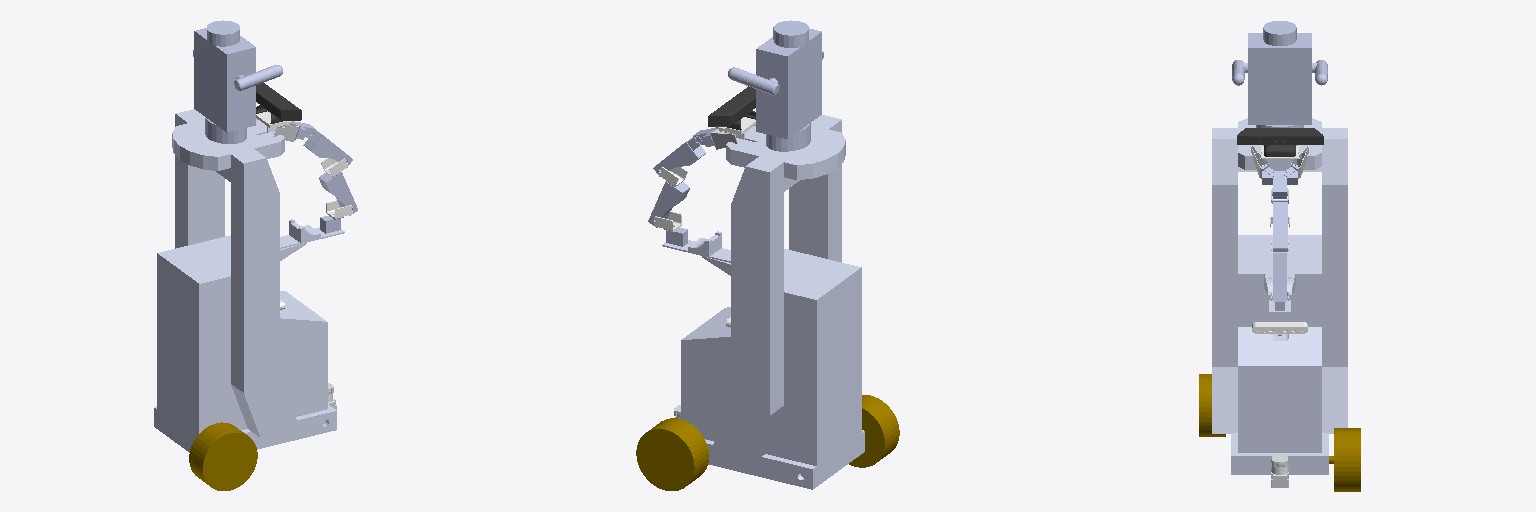
--- Render facts (derived) ---
The picture shows the robot from 3 angles, left to right: view 1: azimuth 30°, elevation 25°; view 2: azimuth 150°, elevation 25°; view 3: azimuth 270°, elevation 25°; orthographic projection.
Robot: hera_description — 20 links, 19 joints (8 revolute, 4 continuous, 7 fixed); root link base_link; default pose: every joint at zero.
Visible links, largest first — view 1: base_link, head_link, wheelBR_link, camera_link, link_2, link_4; view 2: base_link, head_link, wheelFL_link, wheelBR_link, camera_link, link_2, link_4; view 3: base_link, head_link, camera_link, wheelFL_link, link_6, wheelBR_link, link_4, link_2, xtion_depth_optical, base_scan_link.
Boxes of the visible links, box(x1,y1,x2,y2) form: base_link: box(154, 109, 344, 452); head_link: box(193, 20, 282, 143); wheelBR_link: box(189, 422, 257, 490); camera_link: box(256, 83, 301, 123); link_2: box(319, 172, 357, 215); link_4: box(303, 130, 352, 167); base_link: box(662, 115, 864, 489); head_link: box(728, 20, 823, 151); wheelFL_link: box(636, 418, 708, 490); wheelBR_link: box(849, 395, 899, 467); camera_link: box(708, 86, 755, 130); link_2: box(648, 182, 689, 227); link_4: box(653, 137, 705, 176); base_link: box(1212, 118, 1347, 487); head_link: box(1232, 21, 1327, 127); camera_link: box(1237, 128, 1323, 156); wheelFL_link: box(1329, 428, 1360, 491); link_6: box(1260, 164, 1299, 198); wheelBR_link: box(1199, 374, 1225, 436); link_4: box(1273, 202, 1287, 251); link_2: box(1273, 252, 1286, 301); xtion_depth_optical: box(1252, 322, 1307, 335); base_scan_link: box(1271, 455, 1288, 486).
Bounding box of the posed robot: 0.7116 × 0.5215 × 1.5 m (x, y, z).
Meshes: 19 distinct files referenced, 17 mesh visuals loaded (17 binary STL); not drawn: 2 (reference not matched to a file when rendering).

robot.urdf — hera_description:
<robot
  name="hera_description">
  <link
    name="base_link">
    <inertial>
      <origin
        xyz="-0.0378472205159159 -4.45763618397466E-08 0.342644249622605"
        rpy="0 0 0" />
      <mass
        value="99.5369630102893" />
      <inertia
        ixx="0.044064230209152"
        ixy="1.30625532944847E-06"
        ixz="0.00719294044752676"
        iyy="0.0704530976037132"
        iyz="-1.57888819011965E-06"
        izz="0.0263888679239557" />
    </inertial>
    <visual>
      <origin
        xyz="0 0 0"
        rpy="0 0 0" />
      <geometry>
        <mesh
          filename="package://hera_description/meshes/base_link.STL" />
      </geometry>
      <material
        name="">
        <color
          rgba="0.882352941176471 0.909803921568627 1 1" />
      </material>
    </visual>
    <collision>
      <origin
        xyz="0 0 0"
        rpy="0 0 0" />
      <geometry>
        <mesh
          filename="package://hera_description/meshes/base_link.STL" />
      </geometry>
    </collision>
  </link>
  <link
    name="wheelFL_link">
    <inertial>
      <origin
        xyz="-2.77555756156289E-17 -0.000127707075968042 0"
        rpy="0 0 0" />
      <mass
        value="24.2701476542873" />
      <inertia
        ixx="0"
        ixy="0"
        ixz="0"
        iyy="0"
        iyz="0"
        izz="0" />
    </inertial>
    <visual>
      <origin
        xyz="0 0 0"
        rpy="0 0 0" />
      <geometry>
        <mesh
          filename="package://hera_description/meshes/wheelFL_link.STL" />
      </geometry>
      <material
        name="">
        <color
          rgba="0.647058823529412 0.517647058823529 0 1" />
      </material>
    </visual>
    <collision>
      <origin
        xyz="0 0 0"
        rpy="0 0 0" />
      <geometry>
        <mesh
          filename="package://hera_description/meshes/wheelFL_link.STL" />
      </geometry>
    </collision>
  </link>
  <joint
    name="wheelFL_joint"
    type="continuous">
    <origin
      xyz="0.20648 0.21675 0"
      rpy="0 0 0" />
    <parent
      link="base_link" />
    <child
      link="wheelFL_link" />
    <axis
      xyz="0 1 0" />
    <limit
      effort="3.25"
      velocity="5" />
  </joint>
  <link
    name="wheelFR_link">
    <inertial>
      <origin
        xyz="0 0.000127707075968042 0"
        rpy="0 0 0" />
      <mass
        value="24.2701476542873" />
      <inertia
        ixx="0"
        ixy="0"
        ixz="0"
        iyy="0"
        iyz="0"
        izz="0" />
    </inertial>
    <visual>
      <origin
        xyz="0 0 0"
        rpy="0 0 0" />
      <geometry>
        <mesh
          filename="package://hera_description/meshes/wheelFR_link.STL" />
      </geometry>
      <material
        name="">
        <color
          rgba="0.647058823529412 0.517647058823529 0 1" />
      </material>
    </visual>
    <collision>
      <origin
        xyz="0 0 0"
        rpy="0 0 0" />
      <geometry>
        <mesh
          filename="package://hera_description/meshes/wheelFR_link.STL" />
      </geometry>
    </collision>
  </link>
  <joint
    name="wheelFR_joint"
    type="continuous">
    <origin
      xyz="0.20648 -0.21675 0"
      rpy="0 0 0" />
    <parent
      link="base_link" />
    <child
      link="wheelFR_link" />
    <axis
      xyz="0 1 0" />
    <limit
      effort="3.25"
      velocity="5" />
  </joint>
  <link
    name="wheelBL_link">
    <inertial>
      <origin
        xyz="0 -0.000127707075968042 0"
        rpy="0 0 0" />
      <mass
        value="24.2701476542873" />
      <inertia
        ixx="0"
        ixy="0"
        ixz="0"
        iyy="0"
        iyz="0"
        izz="0" />
    </inertial>
    <visual>
      <origin
        xyz="0 0 0"
        rpy="0 0 0" />
      <geometry>
        <mesh
          filename="package://hera_description/meshes/wheelBL_link.STL" />
      </geometry>
      <material
        name="">
        <color
          rgba="0.647058823529412 0.517647058823529 0 1" />
      </material>
    </visual>
    <collision>
      <origin
        xyz="0 0 0"
        rpy="0 0 0" />
      <geometry>
        <mesh
          filename="package://hera_description/meshes/wheelBL_link.STL" />
      </geometry>
    </collision>
  </link>
  <joint
    name="wheelBL_joint"
    type="continuous">
    <origin
      xyz="-0.20623 0.21675 0"
      rpy="0 0 0" />
    <parent
      link="base_link" />
    <child
      link="wheelBL_link" />
    <axis
      xyz="0 1 0" />
    <limit
      effort="3.25"
      velocity="5" />
  </joint>
  <link
    name="wheelBR_link">
    <inertial>
      <origin
        xyz="0 0.000127707075968042 6.93889390390723E-18"
        rpy="0 0 0" />
      <mass
        value="24.2701476542873" />
      <inertia
        ixx="0"
        ixy="0"
        ixz="0"
        iyy="0"
        iyz="0"
        izz="0" />
    </inertial>
    <visual>
      <origin
        xyz="0 0 0"
        rpy="0 0 0" />
      <geometry>
        <mesh
          filename="package://hera_description/meshes/wheelBR_link.STL" />
      </geometry>
      <material
        name="">
        <color
          rgba="0.647058823529412 0.517647058823529 0 1" />
      </material>
    </visual>
    <collision>
      <origin
        xyz="0 0 0"
        rpy="0 0 0" />
      <geometry>
        <mesh
          filename="package://hera_description/meshes/wheelBR_link.STL" />
      </geometry>
    </collision>
  </link>
  <joint
    name="wheelBR_joint"
    type="continuous">
    <origin
      xyz="-0.20623 -0.21675 0"
      rpy="0 0 0" />
    <parent
      link="base_link" />
    <child
      link="wheelBR_link" />
    <axis
      xyz="0 1 0" />
    <limit
      effort="3.25"
      velocity="5" />
  </joint>
  <link
    name="base_scan_link">
    <inertial>
      <origin
        xyz="-0.00172501697333638 -4.93002948039427E-13 -0.0147337457873118"
        rpy="0 0 0" />
      <mass
        value="0.669181583389372" />
      <inertia
        ixx="0.000378278931511382"
        ixy="-2.04265599379836E-17"
        ixz="1.4632315095333E-06"
        iyy="0.000378287917620533"
        iyz="9.23792313122111E-15"
        izz="8.98610915070338E-09" />
    </inertial>
    <visual>
      <origin
        xyz="0 0 0"
        rpy="0 0 0" />
      <geometry>
        <mesh
          filename="package://hera_description/meshes/base_scan_link.STL" />
      </geometry>
      <material
        name="">
        <color
          rgba="0.898039215686275 0.917647058823529 0.929411764705882 1" />
      </material>
    </visual>
    <collision>
      <origin
        xyz="0 0 0"
        rpy="0 0 0" />
      <geometry>
        <mesh
          filename="package://hera_description/meshes/base_scan_link.STL" />
      </geometry>
    </collision>
  </link>
  <joint
    name="base_scan_joint"
    type="fixed">
    <origin
      xyz="0.29379 0 0.013419"
      rpy="0 0 0" />
    <parent
      link="base_link" />
    <child
      link="base_scan_link" />
    <axis
      xyz="0 0 0" />
  </joint>
  <link
    name="xtion_link">
    <inertial>
      <origin
        xyz="-0.0214204948659581 -4.24610953899513E-10 -0.000813578798952275"
        rpy="0 0 0" />
      <mass
        value="0.012280323128001" />
      <inertia
        ixx="0"
        ixy="0"
        ixz="0"
        iyy="0"
        iyz="0"
        izz="0" />
    </inertial>
    <visual>
      <origin
        xyz="0 0 0"
        rpy="0 0 0" />
      <geometry>
        <mesh
          filename="package://hera_description/meshes/xtion_link.STL" />
      </geometry>
      <material
        name="">
        <color
          rgba="1 1 1 0.32" />
      </material>
    </visual>
    <collision>
      <origin
        xyz="0 0 0"
        rpy="0 0 0" />
      <geometry>
        <mesh
          filename="package://hera_description/meshes/xtion_link.STL" />
      </geometry>
    </collision>
  </link>
  <joint
    name="xtion_joint"
    type="fixed">
    <origin
      xyz="0.0775 0 0.3873"
      rpy="0 0 0" />
    <parent
      link="base_link" />
    <child
      link="xtion_link" />
    <axis
      xyz="0 1 0" />
    <limit
      effort="0"
      velocity="0" />
  </joint>
  <link
    name="xtion_depth_optical">
    <inertial>
      <origin
        xyz="-0.0167798361475048 -0.0447871333667723 -0.000201032384153421"
        rpy="0 0 0" />
      <mass
        value="0.160828442414892" />
      <inertia
        ixx="0"
        ixy="0"
        ixz="0"
        iyy="0"
        iyz="0"
        izz="0" />
    </inertial>
    <visual>
      <origin
        xyz="0 0 0"
        rpy="0 0 0" />
      <geometry>
        <mesh
          filename="package://hera_description/meshes/xtion_depth_optical.STL" />
      </geometry>
      <material
        name="">
        <color
          rgba="1 1 1 0.32" />
      </material>
    </visual>
    <collision>
      <origin
        xyz="0 0 0"
        rpy="0 0 0" />
      <geometry>
        <mesh
          filename="package://hera_description/meshes/xtion_depth_optical.STL" />
      </geometry>
    </collision>
  </link>
  <joint
    name="xtion_depth_optical_joint"
    type="fixed">
    <origin
      xyz="0.016 0.0445000000000008 0.0214843769443395"
      rpy="0 0 0" />
    <parent
      link="xtion_link" />
    <child
      link="xtion_depth_optical" />
    <axis
      xyz="0 0 0" />
  </joint>
  <link
    name="manip_link">
    <inertial>
      <origin
        xyz="0.00670680348818703 3.974947148317E-09 0.0318456490768535"
        rpy="0 0 0" />
      <mass
        value="0.117793912097688" />
      <inertia
        ixx="3.51059975475259E-05"
        ixy="-8.98830903989E-12"
        ixz="-2.22633738741355E-05"
        iyy="4.92248903546142E-05"
        iyz="-1.41732136779733E-11"
        izz="1.41188928070997E-05" />
    </inertial>
    <visual>
      <origin
        xyz="0 0 0"
        rpy="0 0 0" />
      <geometry>
        <mesh
          filename="package://hera_description/meshes/manip_link.STL" />
      </geometry>
      <material
        name="">
        <color
          rgba="0.792156862745098 0.819607843137255 0.933333333333333 1" />
      </material>
    </visual>
    <collision>
      <origin
        xyz="0 0 0"
        rpy="0 0 0" />
      <geometry>
        <mesh
          filename="package://hera_description/meshes/manip_link.STL" />
      </geometry>
    </collision>
  </link>
  <joint
    name="manip_joint"
    type="fixed">
    <origin
      xyz="0.316 0 0.5923"
      rpy="0 0 0" />
    <parent
      link="base_link" />
    <child
      link="manip_link" />
    <axis
      xyz="0 0 0" />
  </joint>
  <link
    name="link_1">
    <inertial>
      <origin
        xyz="0.0104033798877035 1.61957894568264E-08 0.0156157675149726"
        rpy="0 0 0" />
      <mass
        value="0.0289102663054045" />
      <inertia
        ixx="0"
        ixy="0"
        ixz="0"
        iyy="0"
        iyz="0"
        izz="0" />
    </inertial>
    <visual>
      <origin
        xyz="0 0 0"
        rpy="0 0 0" />
      <geometry>
        <mesh
          filename="package://hera_description/meshes/link_1.STL" />
      </geometry>
      <material
        name="">
        <color
          rgba="0.996078431372549 0.996078431372549 1 1" />
      </material>
    </visual>
    <collision>
      <origin
        xyz="0 0 0"
        rpy="0 0 0" />
      <geometry>
        <mesh
          filename="package://hera_description/meshes/link_1.STL" />
      </geometry>
    </collision>
  </link>
  <joint
    name="joint_1"
    type="revolute">
    <origin
      xyz="0.0155 0 0.0465"
      rpy="0 0 0" />
    <parent
      link="manip_link" />
    <child
      link="link_1" />
    <axis
      xyz="0 0 1" />
    <limit
      lower="-2.24"
      upper="2.24"
      effort="10.6"
      velocity="5" />
  </joint>
  <link
    name="link_2">
    <inertial>
      <origin
        xyz="0.0741364452821117 1.30229255655455E-17 0.00628031610796598"
        rpy="0 0 0" />
      <mass
        value="0.375828736783438" />
      <inertia
        ixx="0"
        ixy="0"
        ixz="0"
        iyy="0"
        iyz="0"
        izz="0" />
    </inertial>
    <visual>
      <origin
        xyz="0 0 0"
        rpy="0 0 0" />
      <geometry>
        <mesh
          filename="package://hera_description/meshes/link_2.STL" />
      </geometry>
      <material
        name="">
        <color
          rgba="0.792156862745098 0.819607843137255 0.933333333333333 1" />
      </material>
    </visual>
    <collision>
      <origin
        xyz="0 0 0"
        rpy="0 0 0" />
      <geometry>
        <mesh
          filename="package://hera_description/meshes/link_2.STL" />
      </geometry>
    </collision>
  </link>
  <joint
    name="joint_2"
    type="revolute">
    <origin
      xyz="0.048 0 0.0215"
      rpy="3.1416 -1.1781 -3.1416" />
    <parent
      link="link_1" />
    <child
      link="link_2" />
    <axis
      xyz="0 -1 0" />
    <limit
      lower="-3.14"
      upper="3.14"
      effort="10.6"
      velocity="5" />
  </joint>
  <link
    name="link_3">
    <inertial>
      <origin
        xyz="0.0156157675773119 1.6417634019545E-08 -0.0104033799815866"
        rpy="0 0 0" />
      <mass
        value="0.0289102659811359" />
      <inertia
        ixx="0"
        ixy="0"
        ixz="0"
        iyy="0"
        iyz="0"
        izz="0" />
    </inertial>
    <visual>
      <origin
        xyz="0 0 0"
        rpy="0 0 0" />
      <geometry>
        <mesh
          filename="package://hera_description/meshes/link_3.STL" />
      </geometry>
      <material
        name="">
        <color
          rgba="0.996078431372549 0.996078431372549 1 1" />
      </material>
    </visual>
    <collision>
      <origin
        xyz="0 0 0"
        rpy="0 0 0" />
      <geometry>
        <mesh
          filename="package://hera_description/meshes/link_3.STL" />
      </geometry>
    </collision>
  </link>
  <joint
    name="joint_3"
    type="revolute">
    <origin
      xyz="0.14525 0 0"
      rpy="0 -5.5511E-17 -4.9304E-32" />
    <parent
      link="link_2" />
    <child
      link="link_3" />
    <axis
      xyz="1 0 0" />
    <limit
      lower="-2.24"
      upper="2.24"
      effort="10.6"
      velocity="5" />
  </joint>
  <link
    name="link_4">
    <inertial>
      <origin
        xyz="0.0741364452820953 1.48160807624323E-13 0.00628031610795943"
        rpy="0 0 0" />
      <mass
        value="0.375828736783437" />
      <inertia
        ixx="0"
        ixy="0"
        ixz="0"
        iyy="0"
        iyz="0"
        izz="0" />
    </inertial>
    <visual>
      <origin
        xyz="0 0 0"
        rpy="0 0 0" />
      <geometry>
        <mesh
          filename="package://hera_description/meshes/link_4.STL" />
      </geometry>
      <material
        name="">
        <color
          rgba="0.792156862745098 0.819607843137255 0.933333333333333 1" />
      </material>
    </visual>
    <collision>
      <origin
        xyz="0 0 0"
        rpy="0 0 0" />
      <geometry>
        <mesh
          filename="package://hera_description/meshes/link_4.STL" />
      </geometry>
    </collision>
  </link>
  <joint
    name="joint_4"
    type="revolute">
    <origin
      xyz="0.0215 0.0001535 -0.048"
      rpy="8.3578E-18 -0.3927 -2.9674E-16" />
    <parent
      link="link_3" />
    <child
      link="link_4" />
    <axis
      xyz="0 -1 0" />
    <limit
      lower="-5.14"
      upper="1.14"
      effort="10.6"
      velocity="5" />
  </joint>
  <link
    name="link_5">
    <inertial>
      <origin
        xyz="0.010087101628525 1.48136575705768E-13 -6.77236045021345E-15"
        rpy="0 0 0" />
      <mass
        value="0.0141181825481306" />
      <inertia
        ixx="0"
        ixy="0"
        ixz="0"
        iyy="0"
        iyz="0"
        izz="0" />
    </inertial>
    <visual>
      <origin
        xyz="0 0 0"
        rpy="0 0 0" />
      <geometry>
        <mesh
          filename="package://hera_description/meshes/link_5.STL" />
      </geometry>
      <material
        name="">
        <color
          rgba="0.792156862745098 0.819607843137255 0.933333333333333 1" />
      </material>
    </visual>
    <collision>
      <origin
        xyz="0 0 0"
        rpy="0 0 0" />
      <geometry>
        <mesh
          filename="package://hera_description/meshes/link_5.STL" />
      </geometry>
    </collision>
  </link>
  <joint
    name="joint_5"
    type="revolute">
    <origin
      xyz="0.14525 0 0"
      rpy="-1.4604E-16 1.4438E-31 -8.5251E-17" />
    <parent
      link="link_4" />
    <child
      link="link_5" />
    <axis
      xyz="1 0 0" />
    <limit
      lower="-2.24"
      upper="2.24"
      effort="10.6"
      velocity="5" />
  </joint>
  <link
    name="link_6">
    <inertial>
      <origin
        xyz="0.0426969278796748 1.47804755630879E-13 0.0176856465994266"
        rpy="0 0 0" />
      <mass
        value="0.23859359410415" />
      <inertia
        ixx="8.93099227661008E-05"
        ixy="-2.04409858272724E-17"
        ixz="-5.33316339200297E-05"
        iyy="0.000150844639986451"
        iyz="-8.64121315512775E-18"
        izz="0.000195973190606168" />
    </inertial>
    <visual>
      <origin
        xyz="0 0 0"
        rpy="0 0 0" />
      <geometry>
        <mesh
          filename="package://hera_description/meshes/link_6.STL" />
      </geometry>
      <material
        name="">
        <color
          rgba="0.792156862745098 0.819607843137255 0.933333333333333 1" />
      </material>
    </visual>
    <collision>
      <origin
        xyz="0 0 0"
        rpy="0 0 0" />
      <geometry>
        <mesh
          filename="package://hera_description/meshes/link_6.STL" />
      </geometry>
    </collision>
  </link>
  <joint
    name="joint_6"
    type="revolute">
    <origin
      xyz="0.0375 0 0"
      rpy="0 2.6042E-31 0" />
    <parent
      link="link_5" />
    <child
      link="link_6" />
    <axis
      xyz="0 -1 0" />
    <limit
      lower="-3.14"
      upper="3.14"
      effort="10.6"
      velocity="5" />
  </joint>
  <link
    name="link_7">
    <inertial>
      <origin
        xyz="0.000799658923762936 -5.81362093582914E-08 -2.0959335822468E-08"
        rpy="0 0 0" />
      <mass
        value="0.107040413919575" />
      <inertia
        ixx="0.000469215991711516"
        ixy="4.61057822637853E-11"
        ixz="5.0144351564635E-19"
        iyy="4.58551606653143E-18"
        iyz="-5.08471341484018E-12"
        izz="0.000469215991711521" />
    </inertial>
    <visual>
      <origin
        xyz="0 0 0"
        rpy="0 0 0" />
      <geometry>
        <mesh
          filename="package://hera_description/meshes/link_7.STL" />
      </geometry>
      <material
        name="">
        <color
          rgba="0.898039215686275 0.917647058823529 0.929411764705882 1" />
      </material>
    </visual>
    <collision>
      <origin
        xyz="0 0 0"
        rpy="0 0 0" />
      <geometry>
        <mesh
          filename="package://hera_description/meshes/link_7.STL" />
      </geometry>
    </collision>
  </link>
  <joint
    name="joint_7"
    type="fixed">
    <origin
      xyz="0.11762 0 0.04872"
      rpy="2.9899E-16 -0.3927 -1.9936E-16" />
    <parent
      link="link_6" />
    <child
      link="link_7" />
    <axis
      xyz="0 0 0" />
    <limit
      effort="10.6"
      velocity="0" />
  </joint>
  <link
    name="link_8" />
  <joint
    name="joint_8"
    type="fixed">
    <origin
      xyz="0.062599 0 0"
      rpy="0 3.0458E-31 0" />
    <parent
      link="link_7" />
    <child
      link="link_8" />
    <axis
      xyz="0 0 0" />
    <limit
      effort="10.6"
      velocity="0" />
  </joint>
  <link
    name="kinect_link">
    <inertial>
      <origin
        xyz="0.0174731660530447 0.000165436078301785 0.0325759125542562"
        rpy="0 0 0" />
      <mass
        value="0.0956443898933828" />
      <inertia
        ixx="0"
        ixy="0"
        ixz="0"
        iyy="0"
        iyz="0"
        izz="0" />
    </inertial>
    <visual>
      <origin
        xyz="0 0 0"
        rpy="0 0 0" />
      <geometry>
        <mesh
          filename="package://hera_description/meshes/kinect_link.STL" />
      </geometry>
      <material
        name="">
        <color
          rgba="1 1 1 1" />
      </material>
    </visual>
    <collision>
      <origin
        xyz="0 0 0"
        rpy="0 0 0" />
      <geometry>
        <mesh
          filename="package://hera_description/meshes/kinect_link.STL" />
      </geometry>
    </collision>
  </link>
  <joint
    name="kinect_joint"
    type="revolute">
    <origin
      xyz="0.077635 0 0.99883"
      rpy="6.0338E-16 0 0" />
    <parent
      link="base_link" />
    <child
      link="kinect_link" />
    <axis
      xyz="0 1 0" />
    <limit
      lower="0"
      upper="1.57"
      effort="3"
      velocity="3" />
  </joint>
  <link
    name="camera_link">
    <inertial>
      <origin
        xyz="-0.0249439013422586 0.0101695683720893 -0.00338860098947635"
        rpy="0 0 0" />
      <mass
        value="0.601627894799159" />
      <inertia
        ixx="5.990327152102E-05"
        ixy="1.49751784865378E-07"
        ixz="1.87108228809937E-05"
        iyy="6.57441457584246E-05"
        iyz="-4.79404209175574E-07"
        izz="5.84854804592201E-06" />
    </inertial>
    <visual>
      <origin
        xyz="0 0 0"
        rpy="0 0 0" />
      <geometry>
        <mesh
          filename="package://hera_description/meshes/camera_link.STL" />
      </geometry>
      <material
        name="">
        <color
          rgba="0.298039215686275 0.298039215686275 0.298039215686275 1" />
      </material>
    </visual>
    <collision>
      <origin
        xyz="0 0 0"
        rpy="0 0 0" />
      <geometry>
        <mesh
          filename="package://hera_description/meshes/camera_link.STL" />
      </geometry>
    </collision>
  </link>
  <joint
    name="camera_joint"
    type="fixed">
    <origin
      xyz="0.0489731680776693 -0.00991907062292097 0.0979999999999999"
      rpy="-6.03382078600628E-16 1.07182188209377E-30 1.77635683940025E-15" />
    <parent
      link="kinect_link" />
    <child
      link="camera_link" />
    <axis
      xyz="0 0 0" />
  </joint>
  <link
    name="head_link">
    <inertial>
      <origin
        xyz="-0.013849039370921 -6.03535467358075E-09 0.189580167582216"
        rpy="0 0 0" />
      <mass
        value="8.0744855416889" />
      <inertia
        ixx="0"
        ixy="0"
        ixz="0"
        iyy="0"
        iyz="0"
        izz="0" />
    </inertial>
    <visual>
      <origin
        xyz="0 0 0"
        rpy="0 0 0" />
      <geometry>
        <mesh
          filename="package://hera_description/meshes/head_link.STL" />
      </geometry>
      <material
        name="">
        <color
          rgba="0.792156862745098 0.819607843137255 0.933333333333333 1" />
      </material>
    </visual>
    <collision>
      <origin
        xyz="0 0 0"
        rpy="0 0 0" />
      <geometry>
        <mesh
          filename="package://hera_description/meshes/head_link.STL" />
      </geometry>
    </collision>
  </link>
  <joint
    name="head_joint"
    type="revolute">
    <origin
      xyz="-0.0575 0 1.0193"
      rpy="0 0 1.2616E-16" />
    <parent
      link="base_link" />
    <child
      link="head_link" />
    <axis
      xyz="0 0 1" />
    <limit
      lower="-1.2"
      upper="1.2"
      effort="3"
      velocity="3" />
  </joint>
  <gazebo>
    <plugin name="base_controller" filename="libgazebo_ros_planar_move.so">
      <commandTopic>cmd_vel</commandTopic>
      <odometryTopic>odom</odometryTopic>
      <odometryFrame>odom</odometryFrame>
      <odometryRate>100.0</odometryRate>
      <robotBaseFrame>base_footprint</robotBaseFrame>
    </plugin>
  </gazebo>
  <gazebo reference="base_scan_link">
    <sensor name="base_scan" type="ray">
      <always_on>true</always_on>
      <update_rate>10</update_rate>
    	<visualize>true</visualize>
  	  <ray>
        <scan>
          <horizontal>
            <samples>150</samples>
            <resolution>1.0</resolution>
            <min_angle>-1.45</min_angle>
            <max_angle>1.45</max_angle>
          </horizontal>
        </scan>
        <range>
          <min>0.08</min>
          <max>30.0</max>
          <resolution>0.01</resolution>
        </range>
      </ray>
      <plugin name="gazebo_ros_base_scan_controller" filename="libgazebo_ros_laser.so">
        <gaussianNoise>0.005</gaussianNoise>
        <alwaysOn>true</alwaysOn>
        <updateRate>10</updateRate>
        <topicName>base_scan</topicName>
        <frameName>base_scan_link</frameName>
      </plugin>
    </sensor>
  </gazebo>
</robot>
